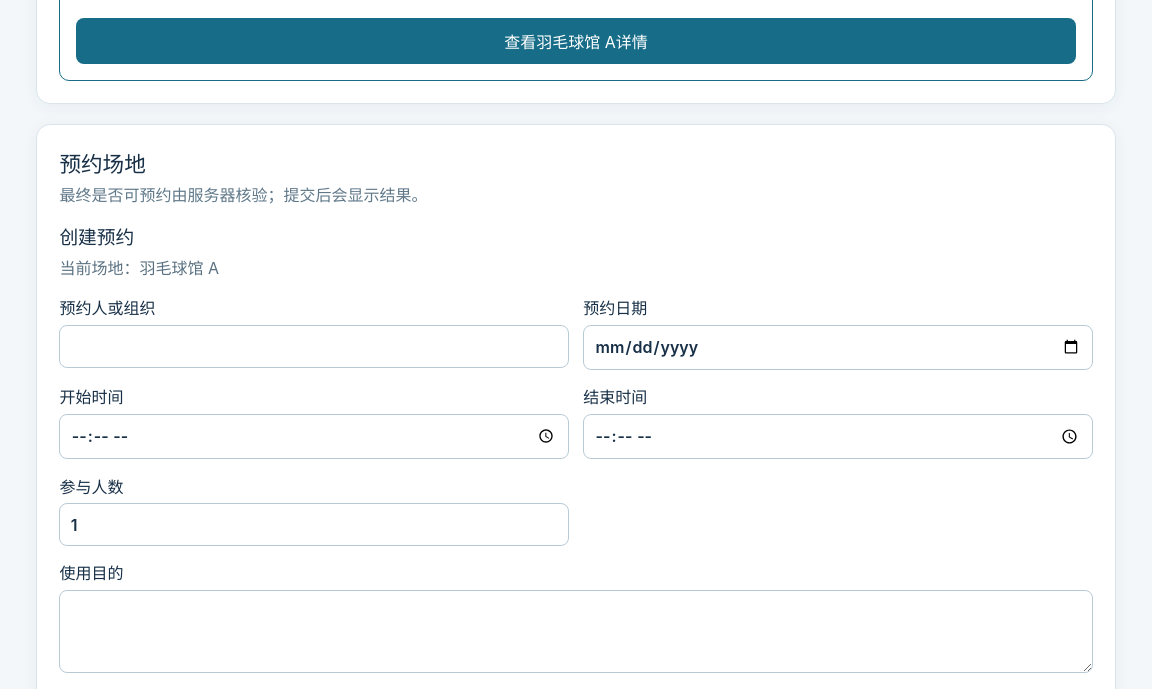
Test: 场地预约页面 › 列表已包含新预约时，创建响应不会插入重复记录
The image size is (1152, 689).
(page scrolled)
Type "软件技术小组" into the field labelled "预约人或组织".
click(314, 346); type("软件技术小组")  # box left=59, top=325, right=569, bottom=368
Type "2030-10-30" into the date field labelled "预约日期".
click(838, 347); type("2030-10-30")  # box left=583, top=325, right=1093, bottom=370
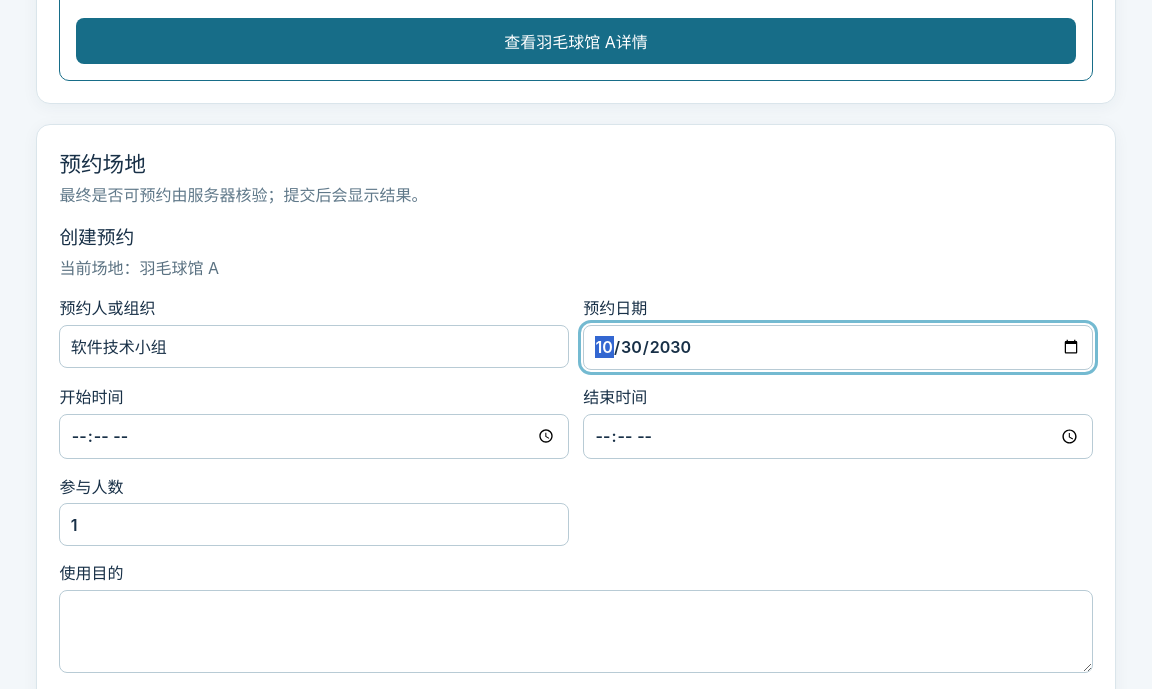
Type "10:00" into the time field labelled "开始时间".
click(314, 436); type("10:00")  # box left=59, top=414, right=569, bottom=459
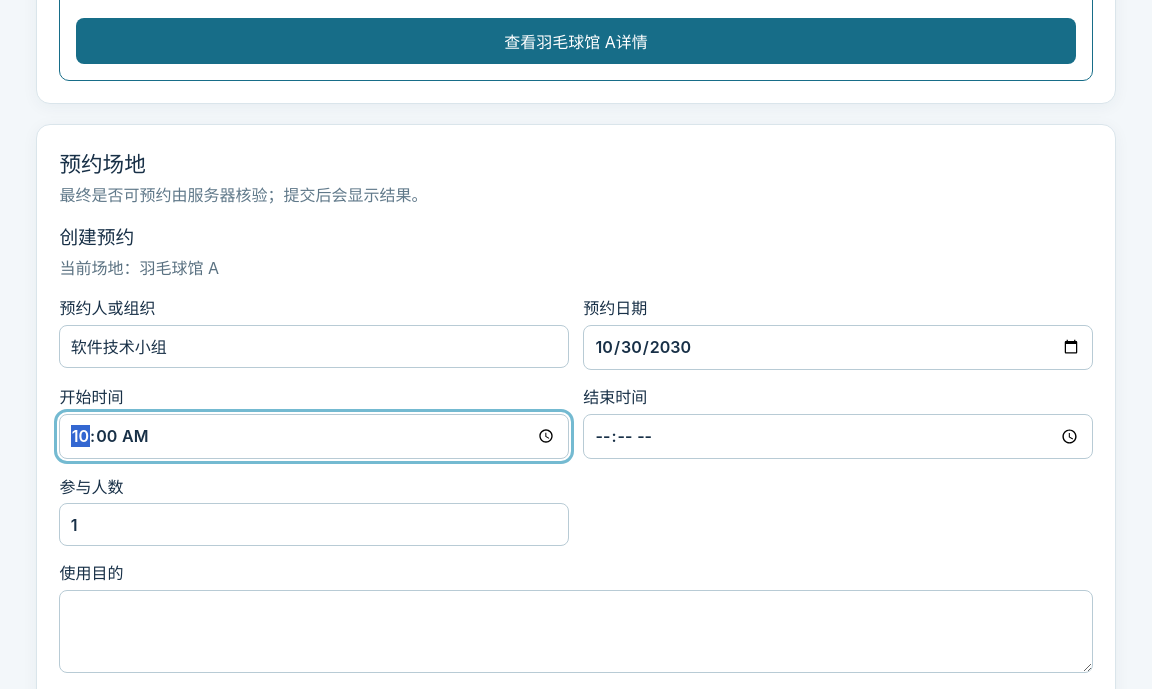
Type "11:00" into the time field labelled "结束时间".
click(838, 436); type("11:00")  # box left=583, top=414, right=1093, bottom=459
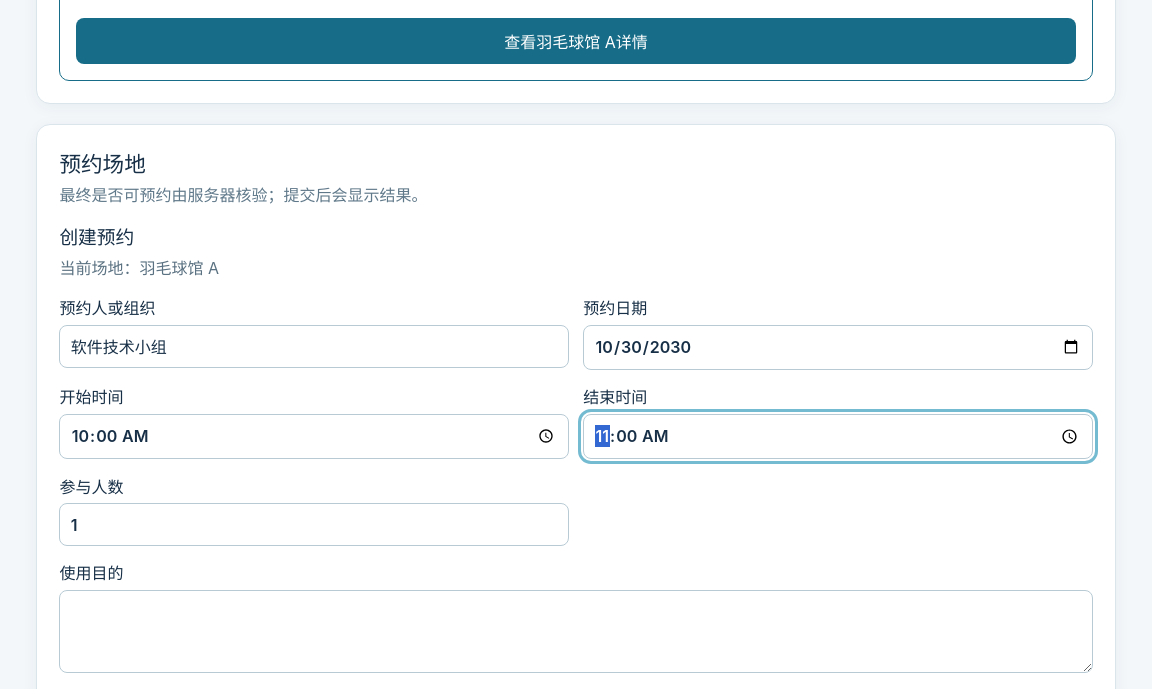
Replace the text in the number field labelled "参与人数" with "3" at (314, 525), box left=59, top=503, right=569, bottom=546
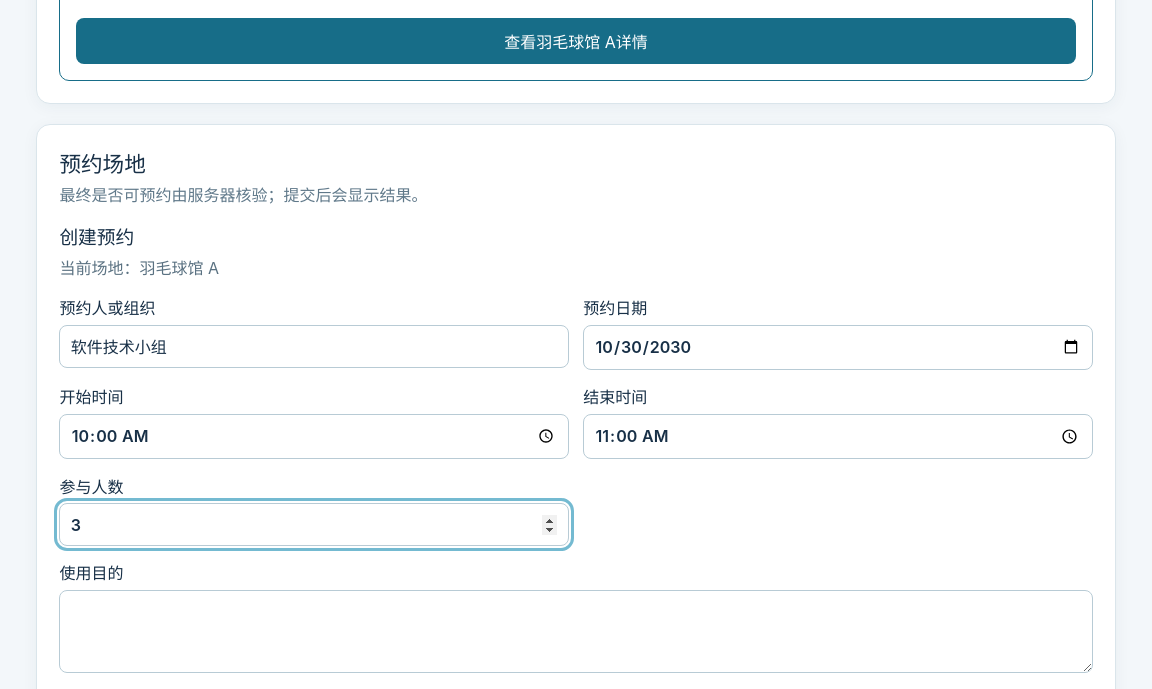
Type "小组活动" into the text box labelled "使用目的".
click(576, 631); type("小组活动")  # box left=59, top=590, right=1093, bottom=673
(page scrolled)
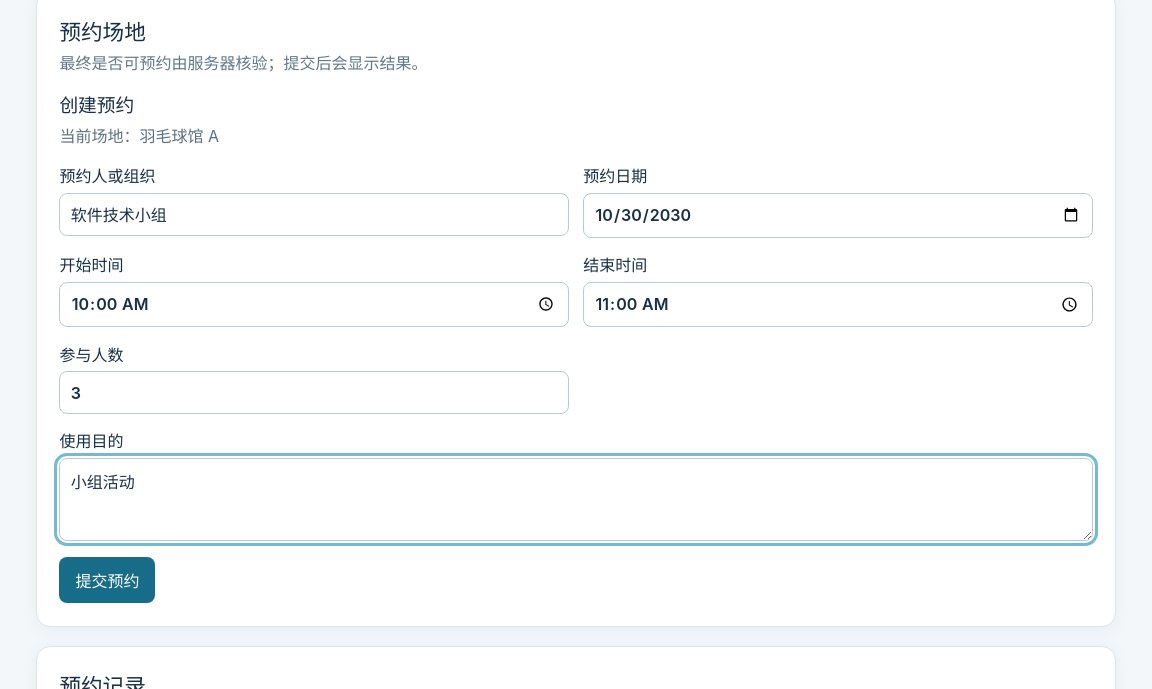
Submit the form "创建预约"
(page scrolled)
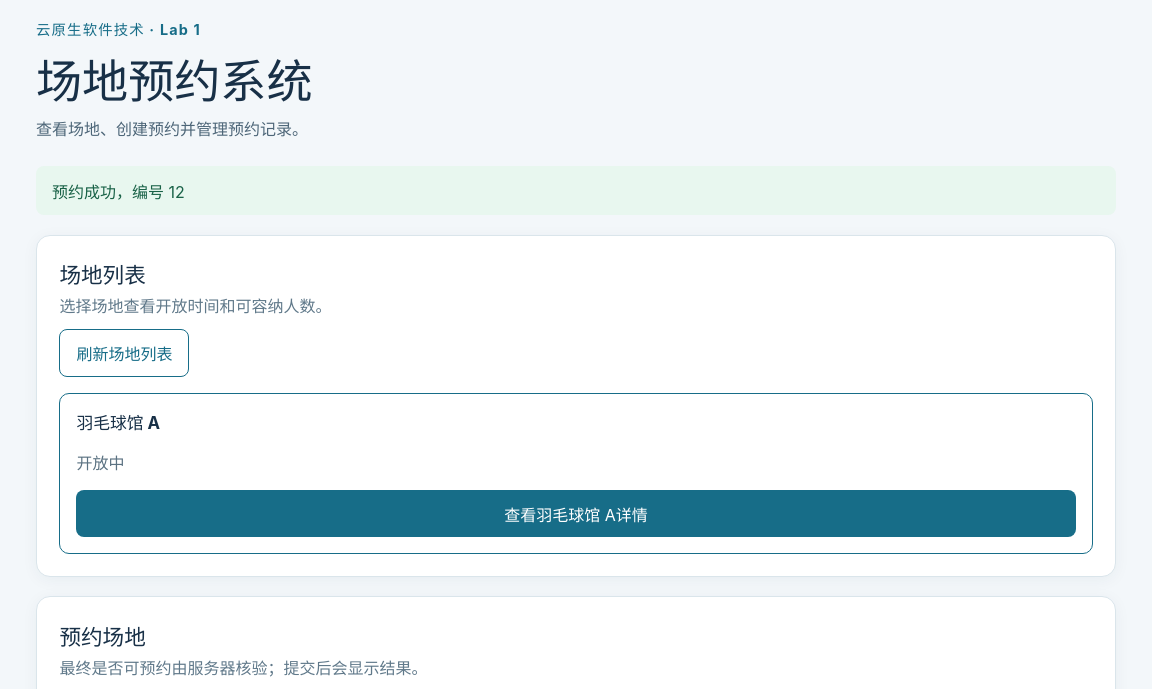
Check: the text "预约成功，编号 12" is shown, box left=36, top=166, right=1116, bottom=215
